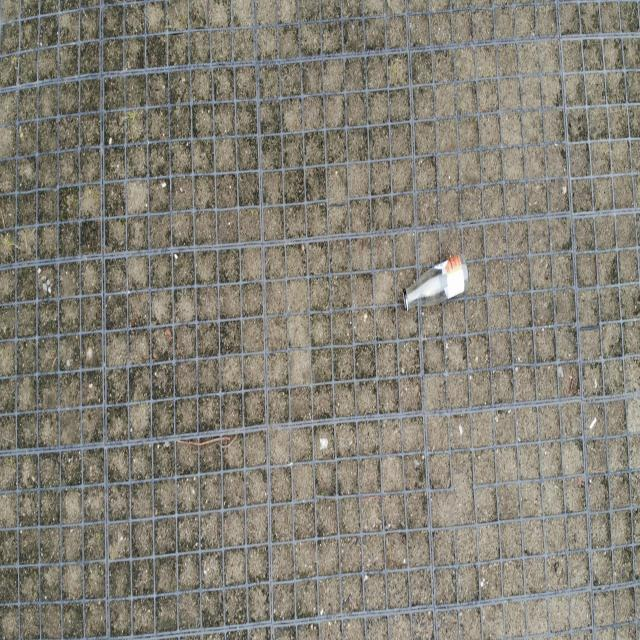rubbish: (401, 251, 470, 312)
